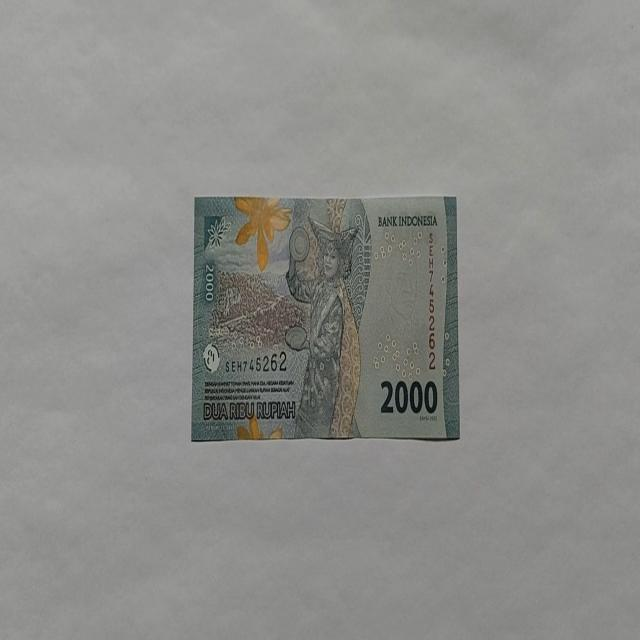dua ribu rupiah: (191, 194, 460, 442), (284, 214, 362, 438), (233, 194, 292, 272)
